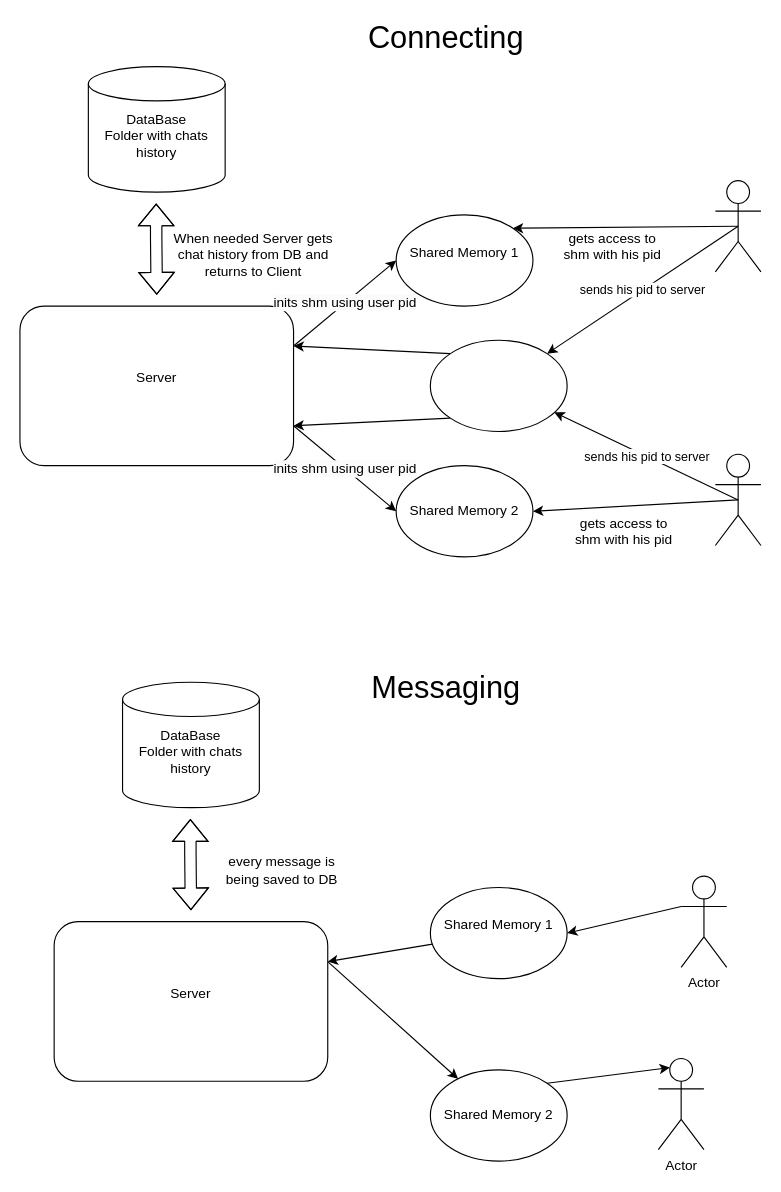
This 781x1192 diagram has some shape labels left out. The shapes that lost their labels are listed below. From the top down, each one's centre as x and y in pixels, then its label:
At pixel 737 226: "pid 1".
At pixel 498 385: "Public shared memory".
At pixel 737 499: "pid 2".
